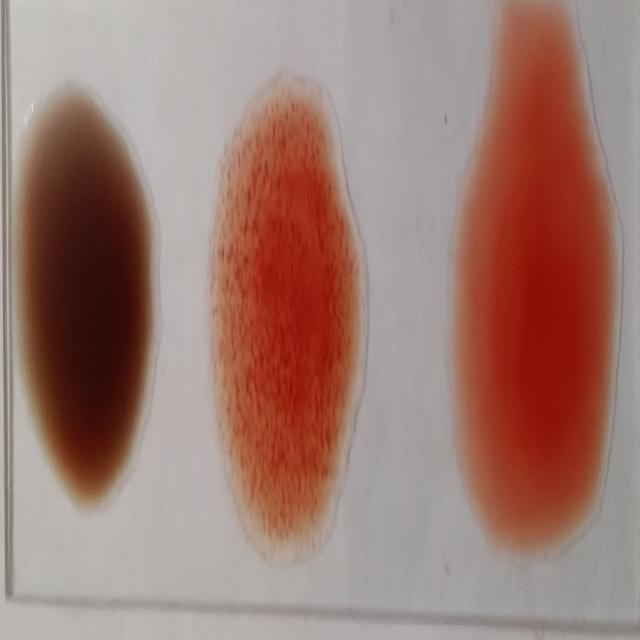D: (218, 90, 350, 538)
